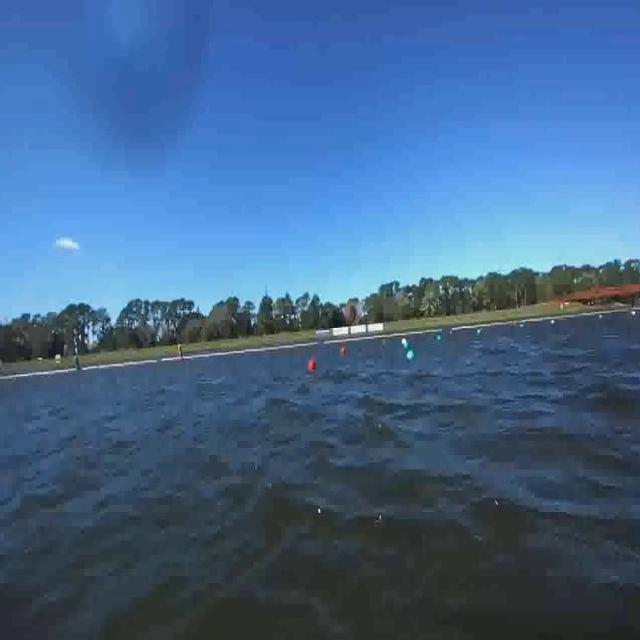green-buoy: (404, 347, 417, 364)
red-buoy: (307, 358, 314, 371)
